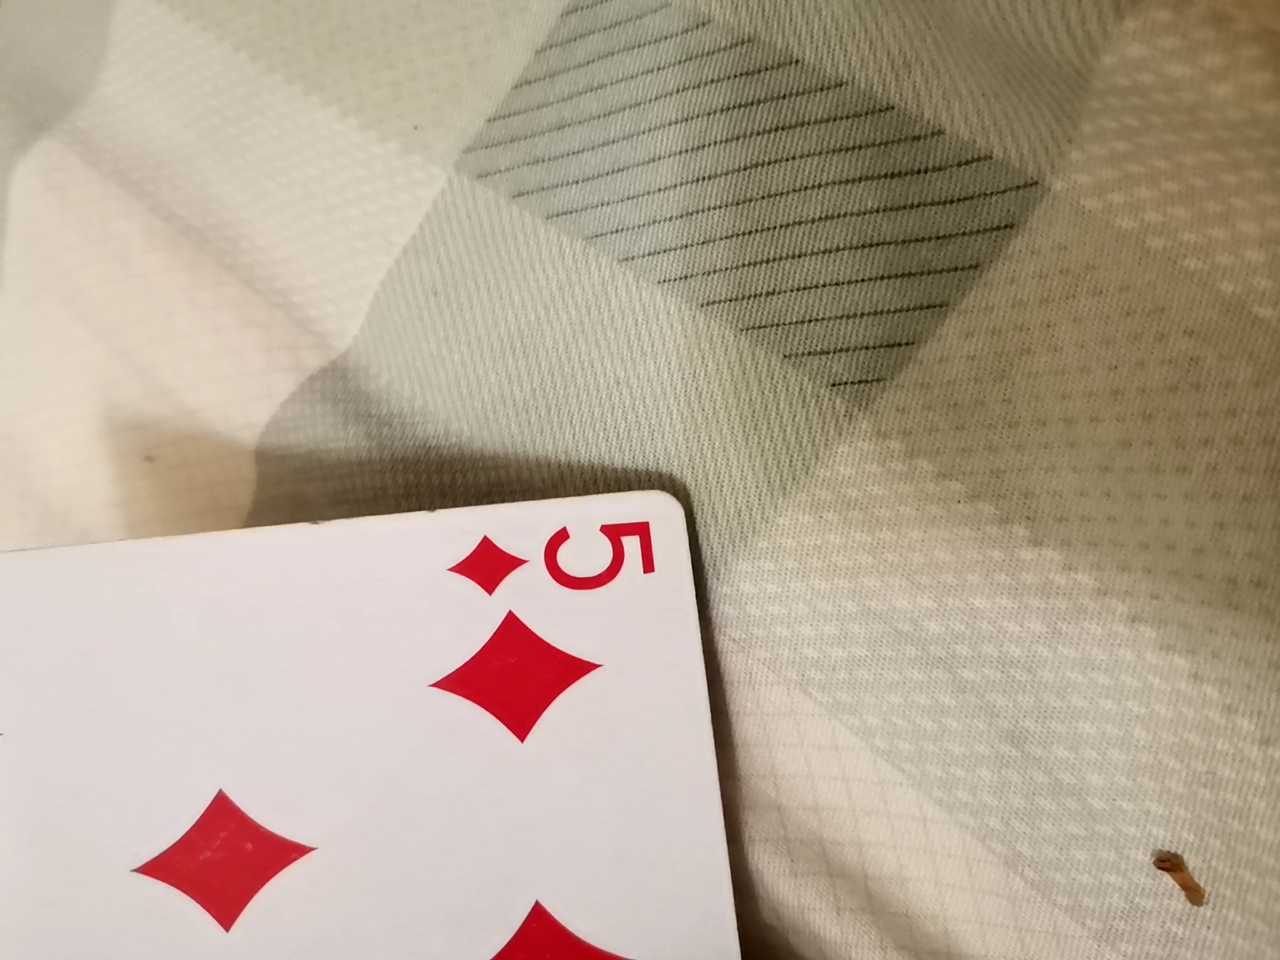fk 5: (5, 485, 770, 956)
